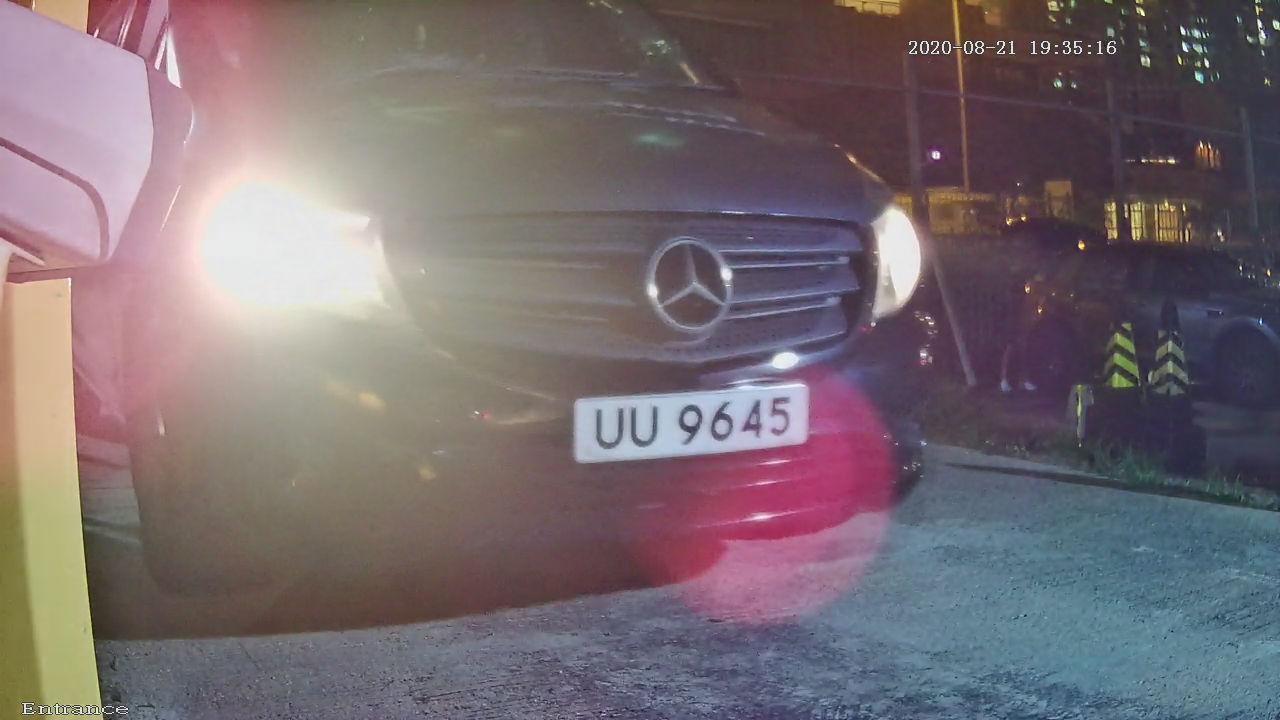Car: (6, 23, 1035, 621)
License Plate: (532, 367, 823, 476)
